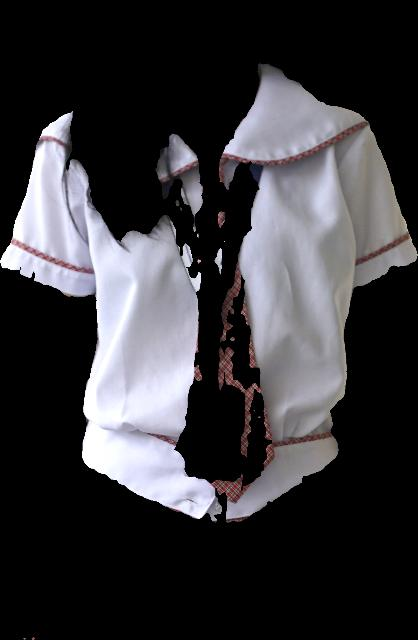pologirl: (0, 64, 417, 523)
